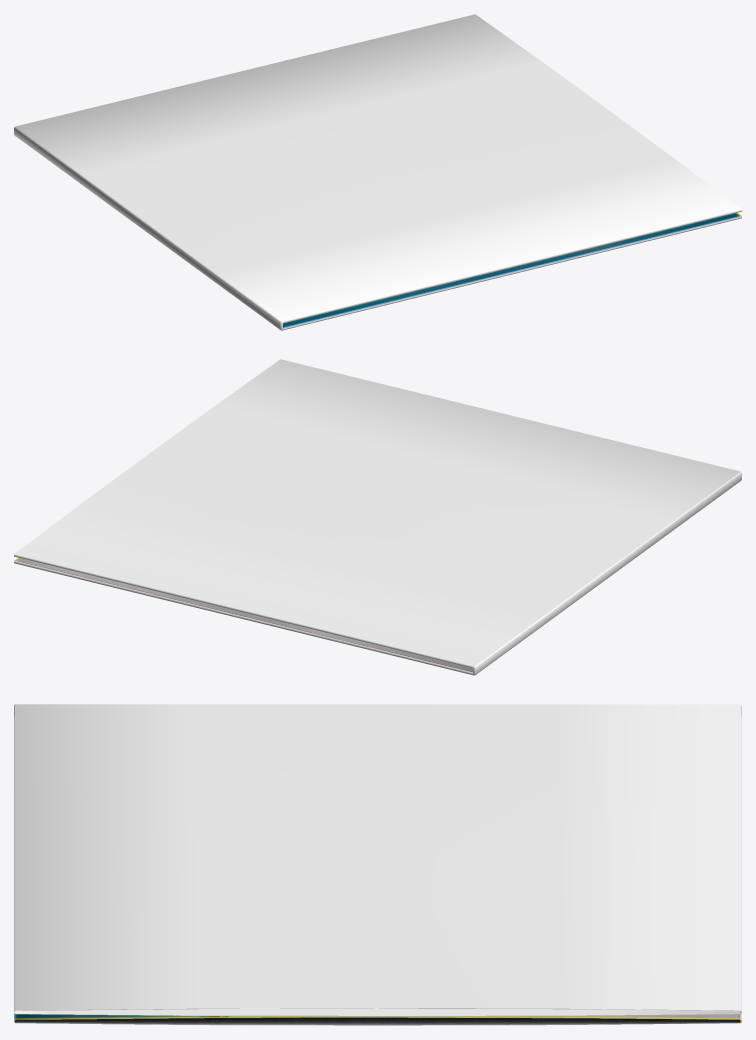
Rendered from sleeve_12_gatefold_AxisNoMove.dae.
The picture shows the model from 3 angles, top to bottom: view 1: azimuth 30°, elevation 25°; view 2: azimuth 150°, elevation 25°; view 3: azimuth 270°, elevation 25°; orthographic projection. The views are drawn at different scales.
Parts seen in each view (by area): view 1: Front_unify_焼成後のtex確認用, Back_unify_焼成後のtex確認用, gatefold_spine_焼成後のtex確認用; view 2: Front_unify_焼成後のtex確認用, Back_unify_焼成後のtex確認用, gatefold_spine_焼成後のtex確認用; view 3: Front_unify_焼成後のtex確認用, Back_unify_焼成後のtex確認用.
Boxes of the visible parts, x1=… form: Front_unify_焼成後のtex確認用: x1=15, y1=14, x2=741, y2=323; Back_unify_焼成後のtex確認用: x1=282, y1=213, x2=741, y2=330; gatefold_spine_焼成後のtex確認用: x1=14, y1=127, x2=282, y2=330; Front_unify_焼成後のtex確認用: x1=14, y1=359, x2=740, y2=668; Back_unify_焼成後のtex確認用: x1=14, y1=558, x2=473, y2=675; gatefold_spine_焼成後のtex確認用: x1=473, y1=472, x2=741, y2=675; Front_unify_焼成後のtex確認用: x1=14, y1=704, x2=741, y2=1016; Back_unify_焼成後のtex確認用: x1=14, y1=1014, x2=741, y2=1025.
Size of the model in its own units: 31.18 by 0.9986 by 31.26.
3 materials, 3 textured.
